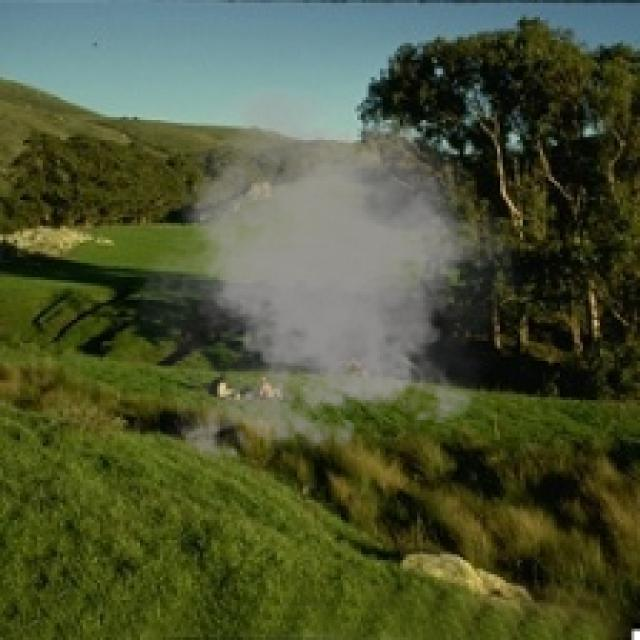smoke: (120, 80, 534, 471)
